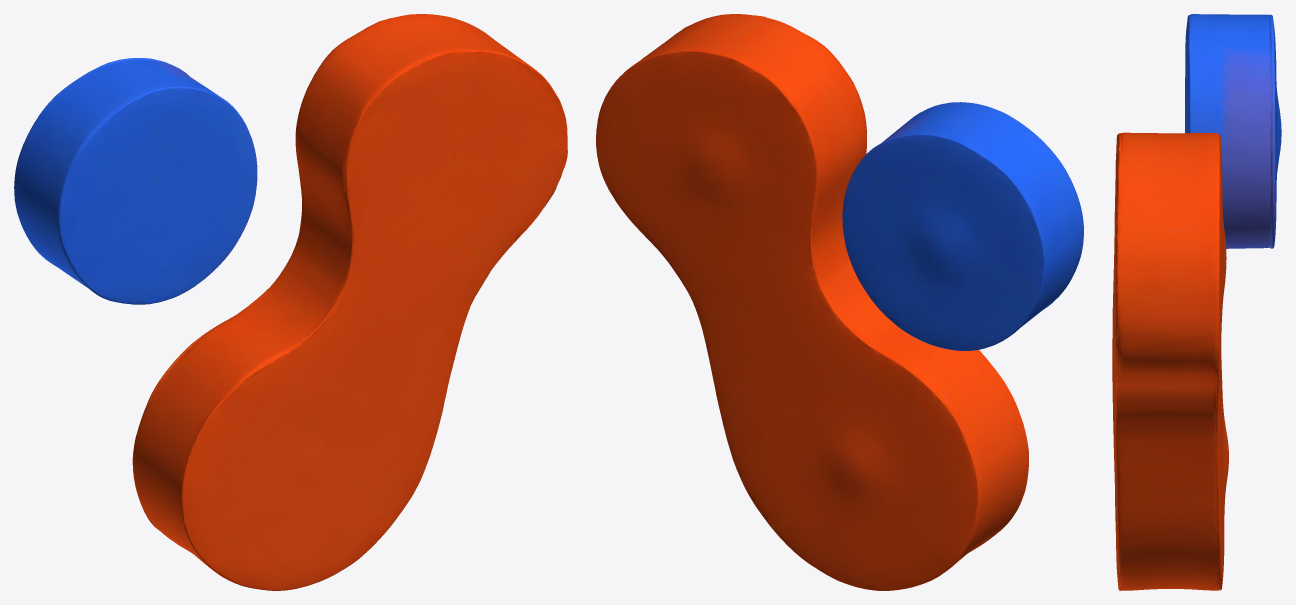
Rendered from tool-yougile.glb.
The picture shows the model from 3 angles, left to right: view 1: azimuth 30°, elevation 25°; view 2: azimuth 150°, elevation 25°; view 3: azimuth 270°, elevation 25°; orthographic projection.
Visible parts, largest first — view 1: tripo_node_fa42054a-c78e-4640-bd38-5c309bcd2146; view 2: tripo_node_fa42054a-c78e-4640-bd38-5c309bcd2146; view 3: tripo_node_fa42054a-c78e-4640-bd38-5c309bcd2146.
Boxes of the visible parts, x1,y1,x2,y2 form: tripo_node_fa42054a-c78e-4640-bd38-5c309bcd2146: [14, 14, 567, 590]; tripo_node_fa42054a-c78e-4640-bd38-5c309bcd2146: [596, 14, 1083, 590]; tripo_node_fa42054a-c78e-4640-bd38-5c309bcd2146: [1112, 14, 1281, 590].
Bounding box in the file's own units: 0.9798 × 0.978 × 0.299.
1 material, 1 textured.
